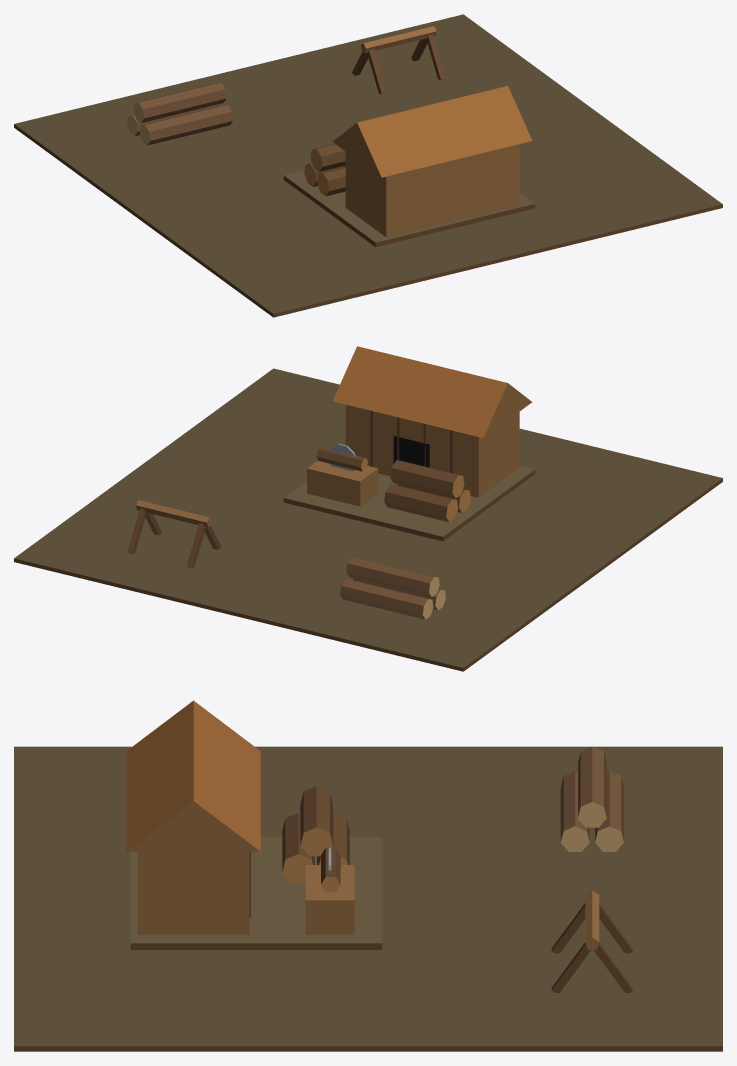
The model's file is lumber_camp_1.glb.
3 renders of one model, top to bottom at view 1: azimuth 30°, elevation 25°; view 2: azimuth 150°, elevation 25°; view 3: azimuth 270°, elevation 25°, orthographic. The views are drawn at different scales.
Parts seen in each view (by area): view 1: lumber_camp_1; view 2: lumber_camp_1; view 3: lumber_camp_1.
Part boxes in pixels (x1=…): lumber_camp_1: x1=14, y1=14, x2=722, y2=317; lumber_camp_1: x1=14, y1=346, x2=722, y2=671; lumber_camp_1: x1=14, y1=700, x2=722, y2=1051.
Bounding box in the file's own units: 3.8 × 0.8925 × 3.8.
